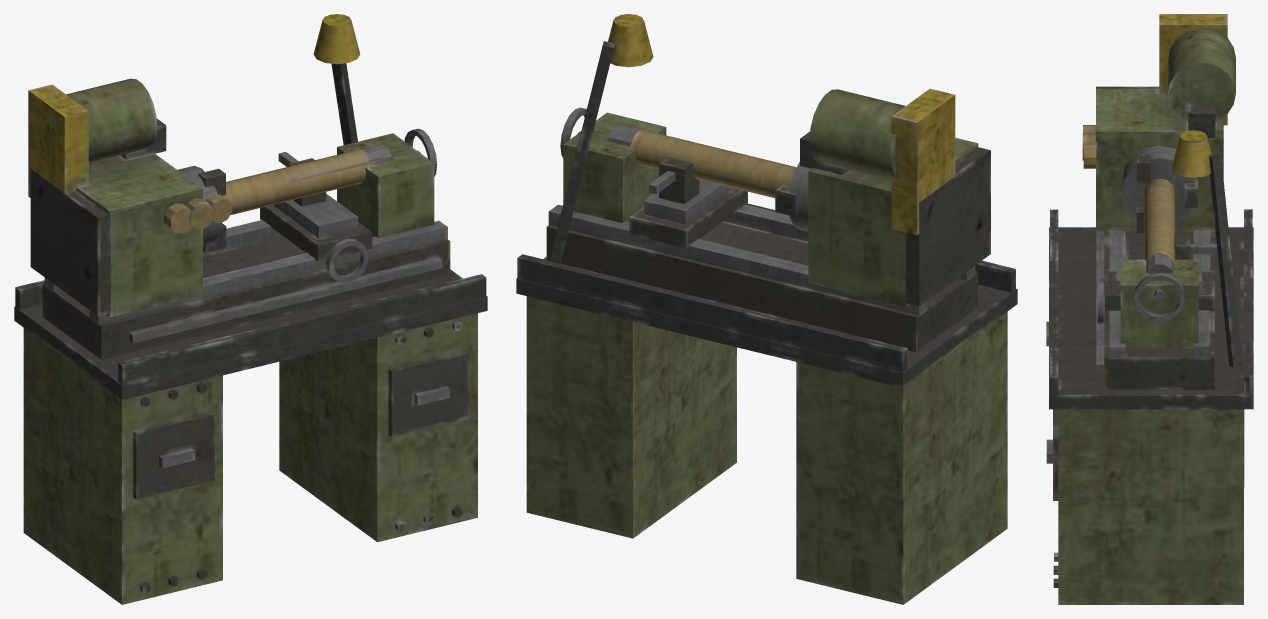
File: feM_Lathe.glb
3 views of the same model, side by side, from view 1: azimuth 30°, elevation 25°; view 2: azimuth 150°, elevation 25°; view 3: azimuth 270°, elevation 25° (orthographic). The views are drawn at different scales.
Visible parts, largest first — view 1: feM_Lathe_Base, FeSpin_x4_Chuck, FePiston_Carriage; view 2: feM_Lathe_Base, FeSpin_x4_Chuck, FePiston_Carriage; view 3: feM_Lathe_Base, FeSpin_x4_Chuck, FePiston_Carriage.
Boxes of the visible parts, box(x1,y1,x2,y2) form: feM_Lathe_Base: box(14, 14, 487, 604); FeSpin_x4_Chuck: box(177, 149, 370, 252); FePiston_Carriage: box(260, 152, 372, 282); feM_Lathe_Base: box(516, 14, 1017, 604); FeSpin_x4_Chuck: box(630, 129, 811, 231); FePiston_Carriage: box(629, 157, 747, 248); feM_Lathe_Base: box(1046, 14, 1253, 604); FeSpin_x4_Chuck: box(1121, 146, 1197, 262); FePiston_Carriage: box(1097, 235, 1217, 324).
Bounding box in the file's own units: 0.9448 × 1.14 × 0.4908.
Materials: 1 (1 with a texture image).
